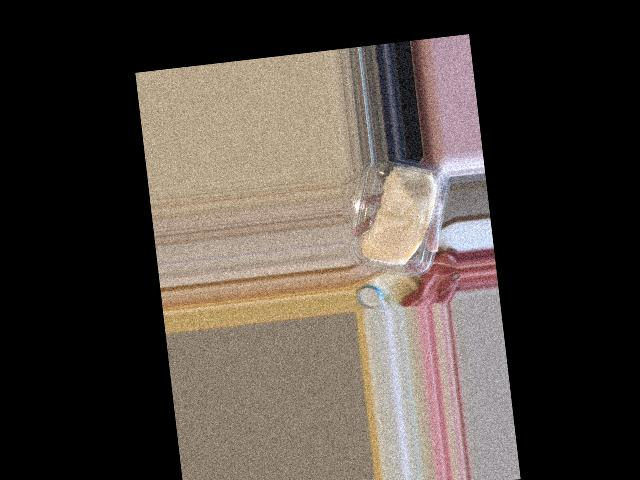cheese: (342, 154, 453, 285)
